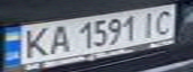1: (72, 19, 96, 49), (121, 12, 142, 42)
5: (90, 17, 112, 47)
9: (106, 16, 127, 45)
A: (45, 21, 72, 55)
C: (151, 7, 178, 35)
I: (136, 8, 160, 38)
K: (18, 25, 54, 60)
